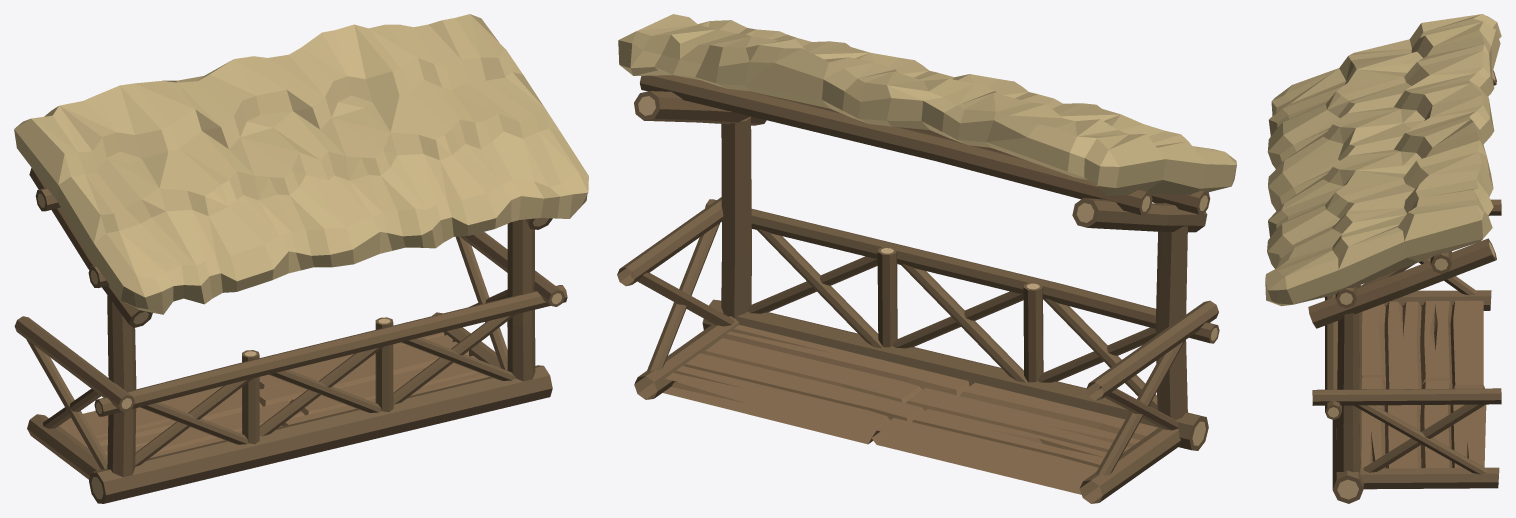
File: rpgpp_st_balcony_01_6m_roof_b.fbx
3 renders of one model, left to right at view 1: azimuth 30°, elevation 25°; view 2: azimuth 150°, elevation 25°; view 3: azimuth 270°, elevation 25°, orthographic. The views are drawn at different scales.
Visible parts, largest first — view 1: rpgpp_st_balcony_01_6m_roof_b; view 2: rpgpp_st_balcony_01_6m_roof_b; view 3: rpgpp_st_balcony_01_6m_roof_b.
Part boxes in pixels (x1=…): rpgpp_st_balcony_01_6m_roof_b: x1=14, y1=14, x2=588, y2=503; rpgpp_st_balcony_01_6m_roof_b: x1=617, y1=14, x2=1236, y2=503; rpgpp_st_balcony_01_6m_roof_b: x1=1265, y1=14, x2=1501, y2=503.
Size of the model in its own units: 6.14 by 4.43 by 3.01.
